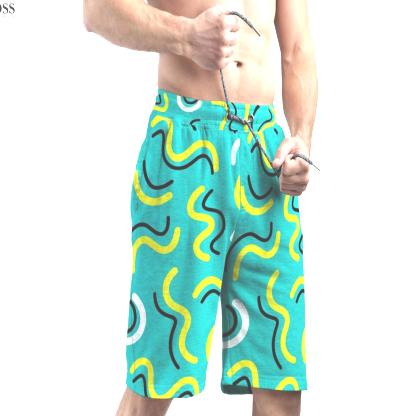jacket: (130, 78, 312, 402)
